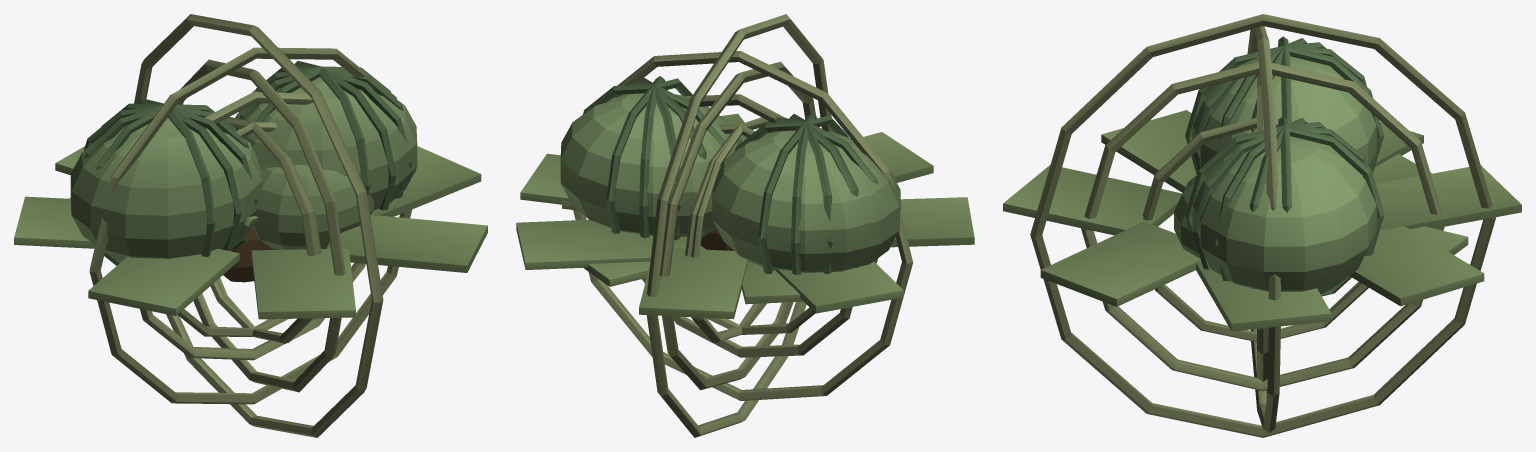
Rendered from crop_watermelon.glb.
3 views of the same model, side by side, from view 1: azimuth 30°, elevation 25°; view 2: azimuth 150°, elevation 25°; view 3: azimuth 270°, elevation 25° (orthographic). The views are drawn at different scales.
Visible parts, largest first — view 1: melon, vine.003, melon.001, vine.002, leaf.005, leaf.004, leaf.006, vine.001, melon2, vine, leaf, leaf.003 (+15 smaller); view 2: melon, melon.001, vine.002, vine.003, leaf.002, leaf.001, vine.001, leaf.003, leaf.004, vine, stripe, leaf.005 (+15 smaller); view 3: melon.001, vine.003, vine.001, leaf.006, melon, leaf.005, leaf.001, leaf.002, leaf, vine.002, leaf.004, vine2.003 (+15 smaller).
Boxes of the visible parts, x1=… form: melon: x1=70, y1=117, x2=262, y2=261; vine.003: x1=134, y1=14, x2=383, y2=437; melon.001: x1=235, y1=77, x2=417, y2=210; vine.002: x1=89, y1=47, x2=415, y2=404; leaf.005: x1=251, y1=248, x2=355, y2=319; leaf.004: x1=88, y1=248, x2=239, y2=315; leaf.006: x1=326, y1=215, x2=487, y2=272; vine.001: x1=178, y1=59, x2=345, y2=392; melon2: x1=252, y1=165, x2=373, y2=249; vine: x1=140, y1=91, x2=365, y2=360; leaf: x1=371, y1=146, x2=481, y2=216; leaf.003: x1=14, y1=196, x2=95, y2=248; melon: x1=712, y1=130, x2=900, y2=272; melon.001: x1=560, y1=93, x2=742, y2=236; vine.002: x1=573, y1=51, x2=913, y2=400; vine.003: x1=646, y1=14, x2=832, y2=437; leaf.002: x1=639, y1=248, x2=747, y2=318; leaf.001: x1=516, y1=219, x2=653, y2=269; vine.001: x1=660, y1=61, x2=815, y2=390; leaf.003: x1=775, y1=261, x2=903, y2=313; leaf.004: x1=890, y1=197, x2=974, y2=247; vine: x1=642, y1=94, x2=852, y2=357; stripe: x1=758, y1=115, x2=848, y2=273; leaf.005: x1=863, y1=132, x2=933, y2=182; melon.001: x1=1192, y1=136, x2=1376, y2=294; vine.003: x1=1030, y1=14, x2=1495, y2=437; vine.001: x1=1081, y1=62, x2=1444, y2=391; leaf.006: x1=1040, y1=221, x2=1200, y2=306; melon: x1=1192, y1=56, x2=1376, y2=167; leaf.005: x1=1003, y1=165, x2=1182, y2=235; leaf.001: x1=1350, y1=225, x2=1484, y2=306; leaf.002: x1=1376, y1=165, x2=1521, y2=230; leaf: x1=1196, y1=260, x2=1331, y2=331; vine.002: x1=1247, y1=26, x2=1280, y2=432; leaf.004: x1=1101, y1=110, x2=1196, y2=192; vine2.003: x1=1143, y1=118, x2=1383, y2=341.
Bounding box in the file's own units: 1.18 × 1.09 × 1.21.
